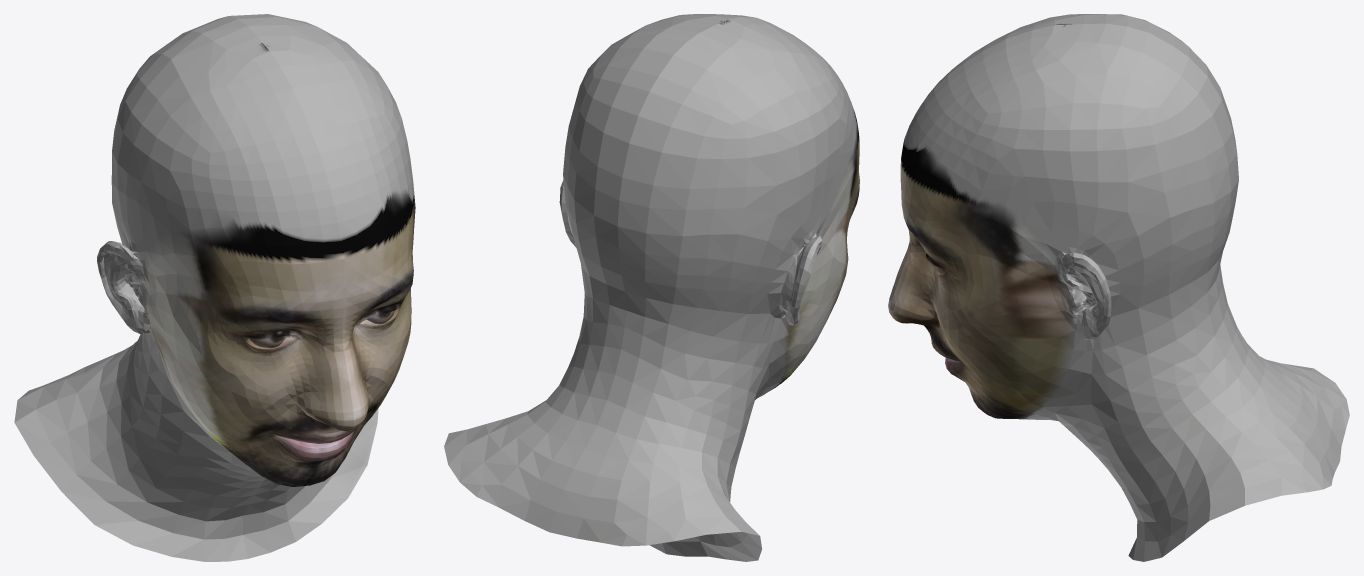
File: ezgif-frame-072.obj
3 renders of one model, left to right at view 1: azimuth 30°, elevation 25°; view 2: azimuth 150°, elevation 25°; view 3: azimuth 270°, elevation 25°, orthographic. The views are drawn at different scales.
Bounding box in the file's own units: 0.2083 × 0.3286 × 0.2675.
1 material, 1 textured.
